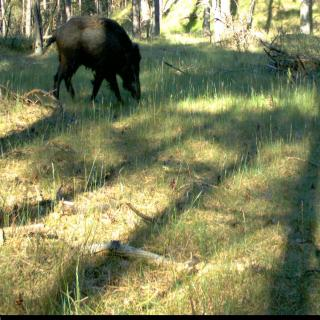Pig: (57, 13, 146, 115)
